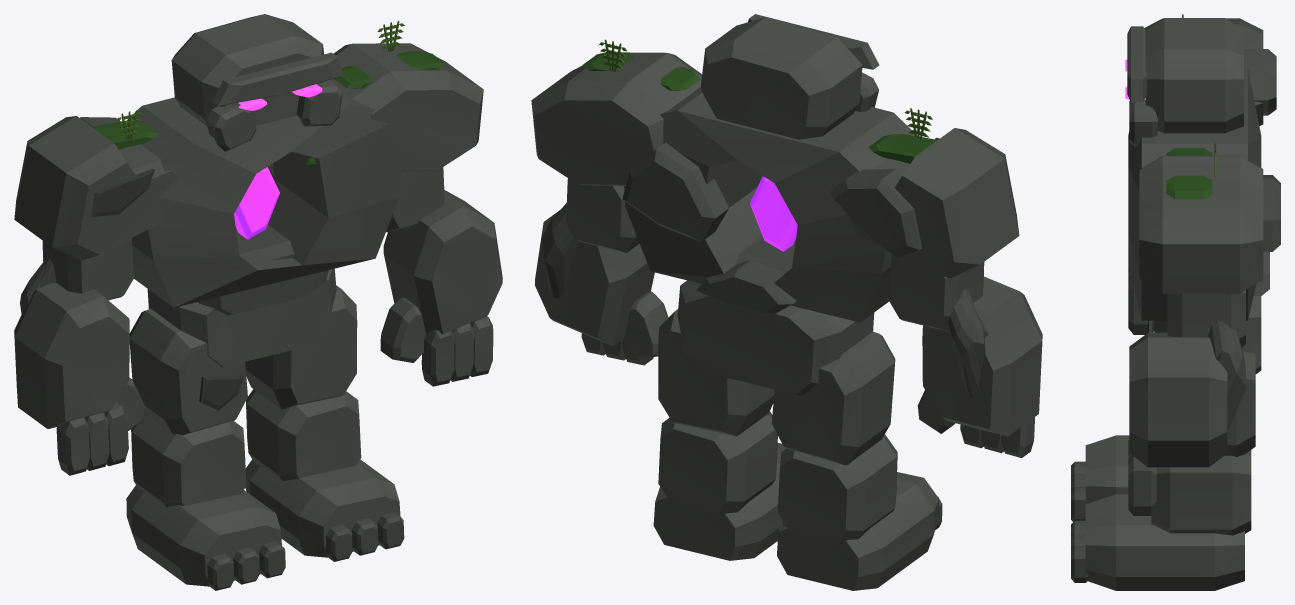
The model's file is MOSS_HEX_GOLEM_Parts.glb.
3 renders of one model, left to right at view 1: azimuth 30°, elevation 25°; view 2: azimuth 150°, elevation 25°; view 3: azimuth 270°, elevation 25°, orthographic. The views are drawn at different scales.
Parts seen in each view (by area): view 1: Fracture_Torso, Fracture_Arm.R, Fracture_Arm.L, Fracture_Leg.R, Fracture_Leg.L, Fracture_Head; view 2: Fracture_Torso, Fracture_Arm.R, Fracture_Arm.L, Fracture_Leg.R, Fracture_Leg.L, Fracture_Head; view 3: Fracture_Arm.L, Fracture_Leg.L, Fracture_Head, Fracture_Torso, Fracture_Leg.R, Fracture_Arm.R.
Boxes of the visible parts, box(x1,y1,x2,y2) form: Fracture_Torso: box(127, 93, 401, 367); Fracture_Arm.R: box(14, 110, 179, 475); Fracture_Arm.L: box(329, 21, 502, 386); Fracture_Leg.R: box(126, 308, 285, 590); Fracture_Leg.L: box(245, 285, 404, 561); Fracture_Head: box(171, 14, 343, 151); Fracture_Torso: box(622, 87, 917, 395); Fracture_Arm.R: box(829, 108, 1042, 457); Fracture_Arm.L: box(531, 39, 701, 365); Fracture_Leg.R: box(771, 331, 942, 590); Fracture_Leg.L: box(653, 309, 786, 560); Fracture_Head: box(700, 14, 879, 139); Fracture_Arm.L: box(1128, 142, 1263, 515); Fracture_Leg.L: box(1071, 351, 1255, 590); Fracture_Head: box(1125, 18, 1243, 146); Fracture_Torso: box(1128, 68, 1280, 373); Fracture_Leg.R: box(1071, 320, 1152, 521); Fracture_Arm.R: box(1128, 14, 1276, 334).
Size of the model in its own units: 2.47 by 2.58 by 0.9625.
